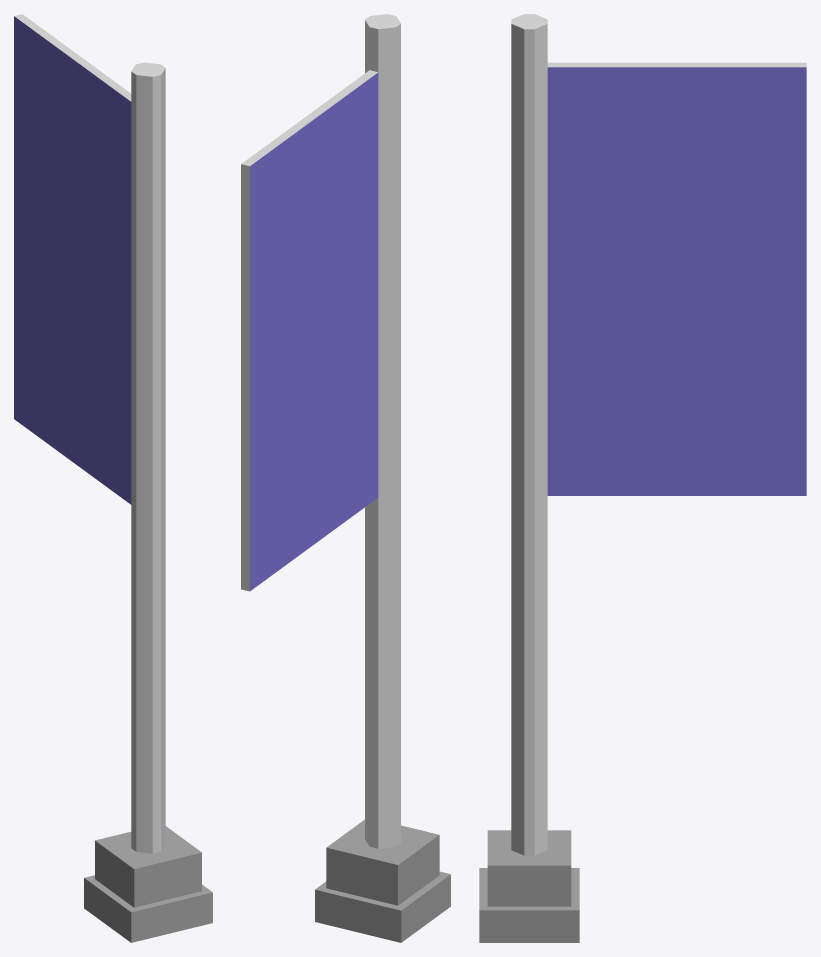
The model's file is Billboard 1.1 1.fbx.
3 views of the same model, side by side, from view 1: azimuth 30°, elevation 25°; view 2: azimuth 150°, elevation 25°; view 3: azimuth 270°, elevation 25° (orthographic). The views are drawn at different scales.
Parts seen in each view (by area): view 1: Billboard_2.002; view 2: Billboard_2.002; view 3: Billboard_2.002.
Boxes of the visible parts, left/top/right/bottom form: Billboard_2.002: left=14, top=14, right=212, bottom=942; Billboard_2.002: left=241, top=14, right=450, bottom=942; Billboard_2.002: left=479, top=14, right=806, bottom=942.
Size of the model in its own units: 65.29 by 646 by 213.
